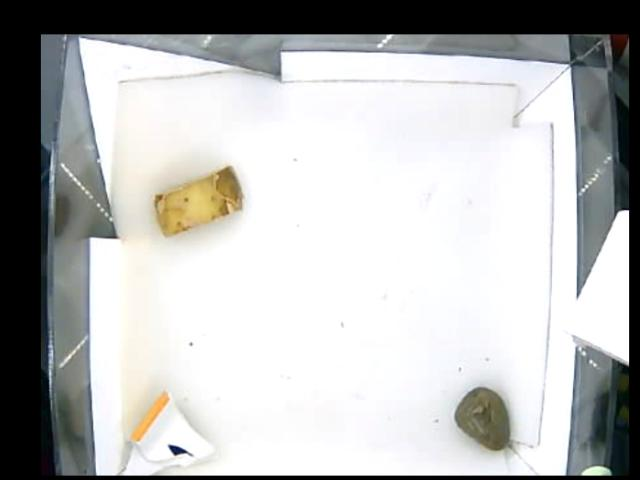China: (111, 388, 217, 475)
Pebble: (453, 386, 514, 449)
Potato: (148, 165, 246, 237)
